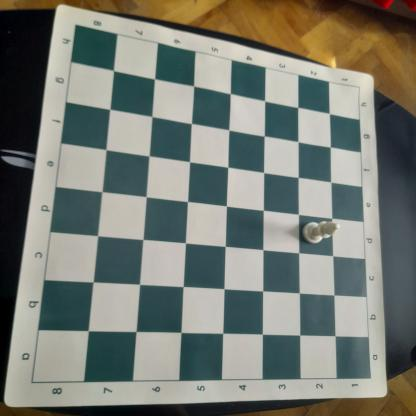white-bishop: (302, 217, 341, 246)
